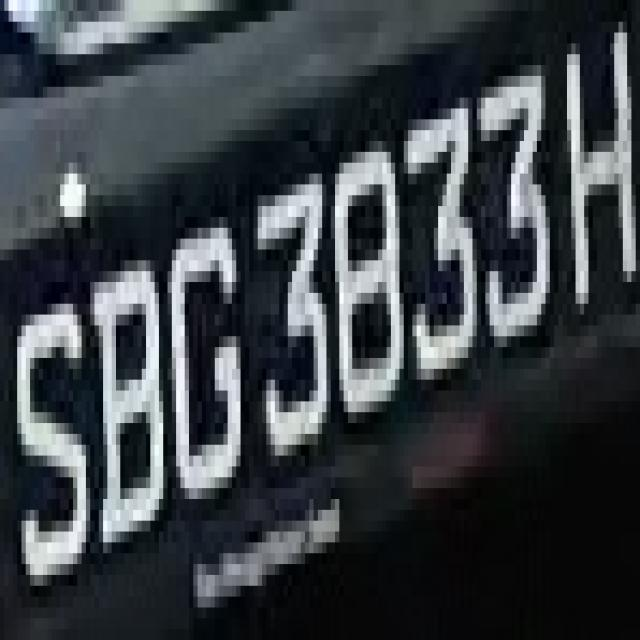3: (459, 43, 558, 369), (391, 76, 481, 390), (249, 141, 331, 466)
8: (322, 130, 412, 445)
B: (81, 228, 168, 553)
G: (159, 206, 249, 499)
H: (558, 22, 640, 336)
S: (9, 249, 90, 596)
